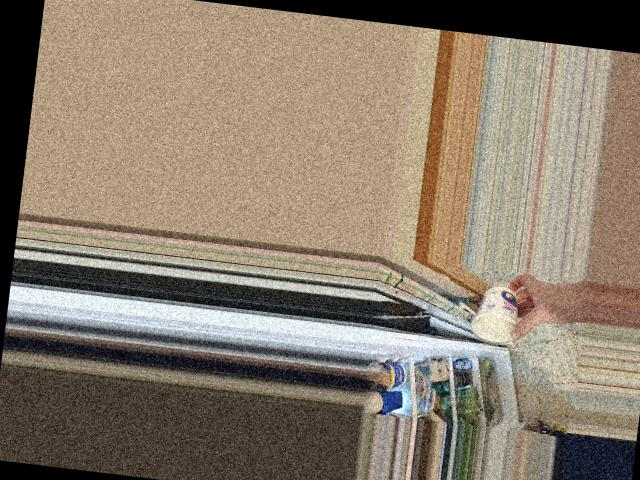cotage: (471, 279, 525, 344)
